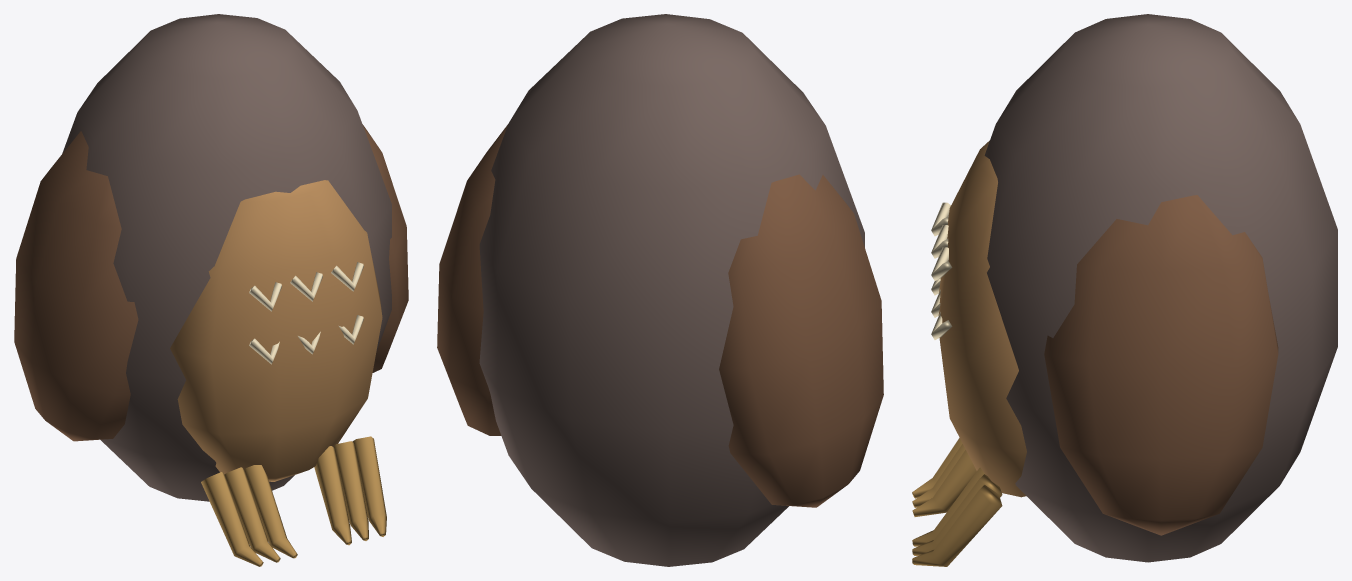
The model's file is owl_body.glb.
3 renders of one model, left to right at view 1: azimuth 30°, elevation 25°; view 2: azimuth 150°, elevation 25°; view 3: azimuth 270°, elevation 25°, orthographic. The views are drawn at different scales.
Visible parts, largest first — view 1: owl_body; view 2: owl_body; view 3: owl_body.
Boxes of the visible parts, x1=… form: owl_body: x1=14, y1=14, x2=408, y2=566; owl_body: x1=437, y1=14, x2=883, y2=566; owl_body: x1=912, y1=14, x2=1337, y2=566.
Bounding box in the file's own units: 0.24 × 0.3 × 0.22.
